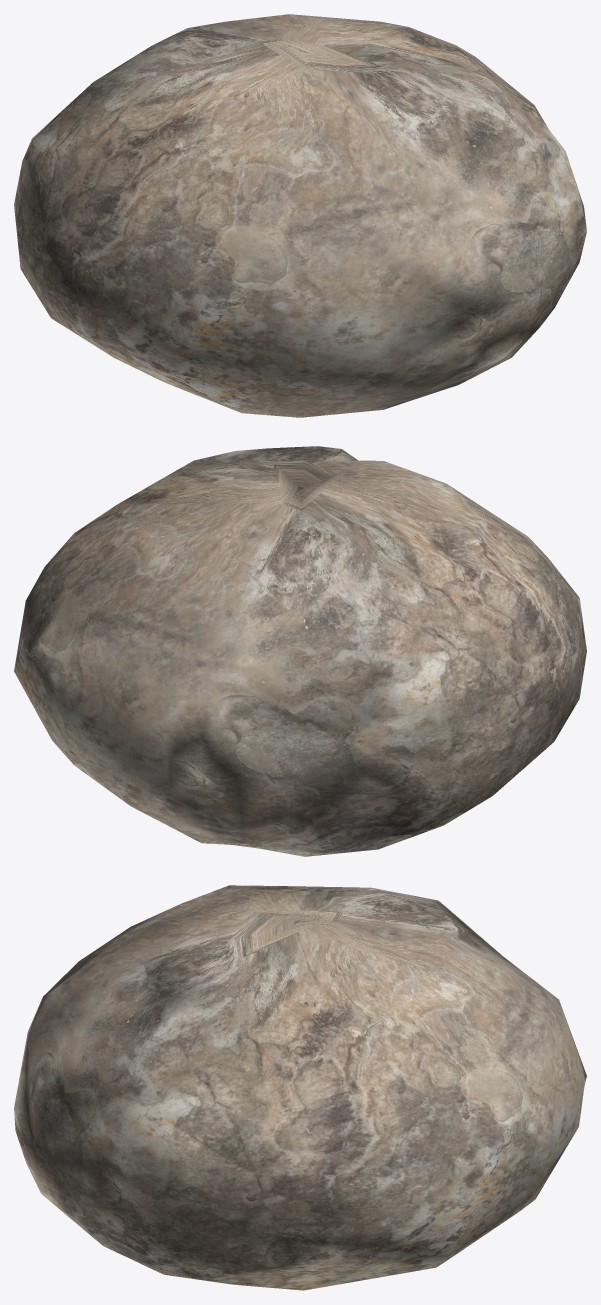
File: pebble-0-far.glb
3 views of the same model, one above another, from view 1: azimuth 30°, elevation 25°; view 2: azimuth 150°, elevation 25°; view 3: azimuth 270°, elevation 25° (orthographic). The views are drawn at different scales.
Visible parts, largest first — view 1: sphere_gltf; view 2: sphere_gltf; view 3: sphere_gltf.
Boxes of the visible parts, x1,y1,x2,y2 form: sphere_gltf: (14, 14, 586, 417); sphere_gltf: (14, 446, 586, 856); sphere_gltf: (14, 885, 586, 1290).
Bounding box in the file's own units: 0.9937 × 0.6444 × 0.9949.
Materials: 1 (1 with a texture image).
